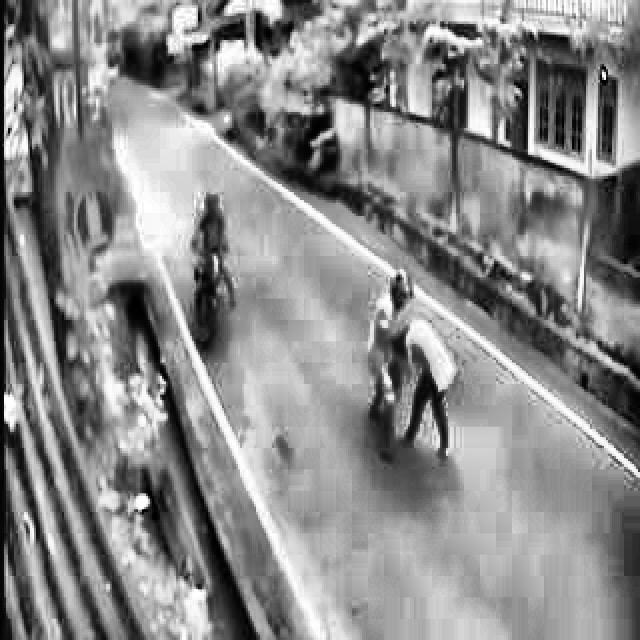robbery: (360, 266, 459, 469)
